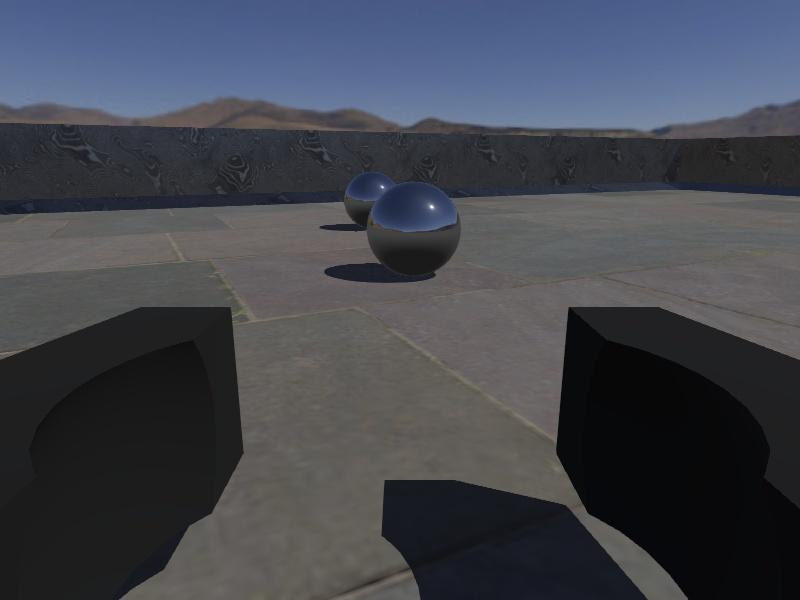steel ball: (365, 181, 462, 278)
